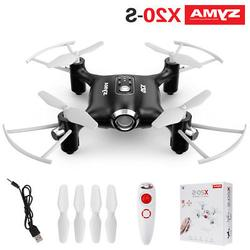drone: (1, 39, 250, 165)
